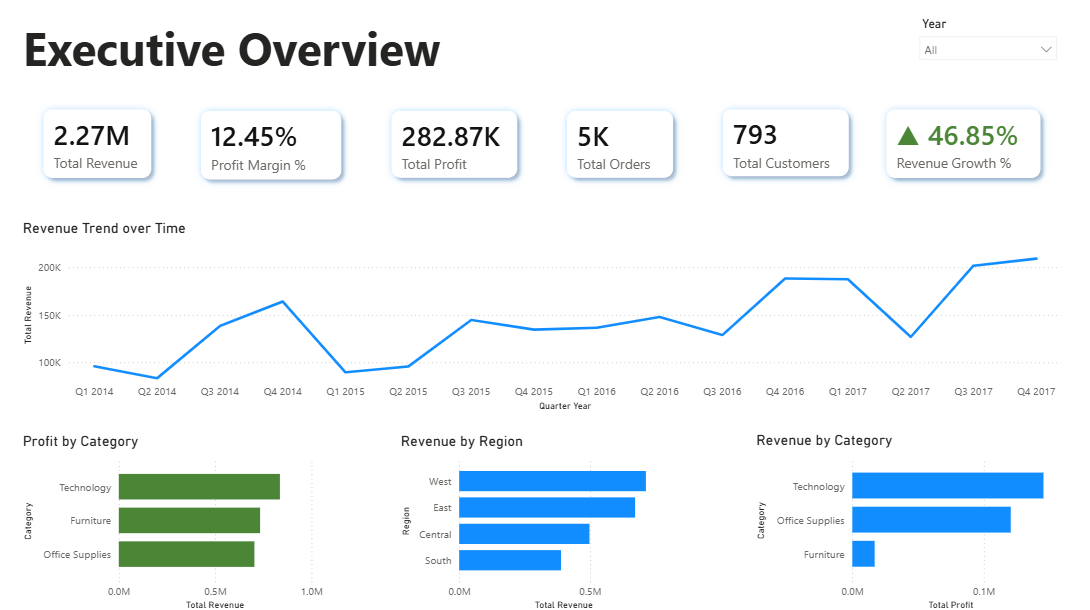

What the dashboard file says about the page in this screenshot:
{"tool":"powerbi","page":{"name":"Executive Overview","canvas":[1280,720],"ordinal":0},"visuals":[{"type":"cardVisual","fields":{"Data":["KPI Measures.Total Revenue"]},"box":[22.8,100,184.2,138.6],"z":0},{"type":"cardVisual","fields":{"Data":["KPI Measures.Total Profit"]},"box":[429.8,101.8,205.3,136.8],"z":1000},{"type":"cardVisual","fields":{"Data":["KPI Measures.Profit Margin %"]},"box":[207,101.8,222.8,138.6],"z":2000},{"type":"cardVisual","fields":{"Data":["KPI Measures.Total Orders"]},"box":[635.1,101.8,182.5,136.8],"z":3000},{"type":"cardVisual","fields":{"Data":["KPI Measures.Total Customers"]},"box":[817.5,100,205.3,136.8],"z":4000},{"type":"cardVisual","fields":{"Data":["KPI Measures.Revenue Growth %"]},"box":[1008.8,100,238.6,138.6],"z":5000},{"type":"lineChart","title":"Revenue Trend over Time","fields":{"Category":["DimDate.Quarter Year"],"Y":["KPI Measures.Total Revenue"]},"box":[22.8,257.9,1224.6,228.1],"z":6000},{"type":"barChart","title":"Revenue by Region","fields":{"Category":["FactSales.Region"],"Y":["KPI Measures.Total Revenue"]},"box":[464.9,507,336.8,212.3],"z":6001},{"type":"barChart","title":"Profit by Category","fields":{"Category":["DimProduct.Category"],"Y":["KPI Measures.Total Revenue"]},"box":[22.8,507,361.4,212.3],"z":6002},{"type":"barChart","title":"Revenue by Category","fields":{"Category":["DimProduct.Category"],"Y":["KPI Measures.Total Profit"]},"box":[880.7,505.3,366.7,214],"z":6003},{"type":"slicer","fields":{"Values":["DimDate.Year"]},"box":[1066.7,15.8,180.7,68.4],"z":6004},{"type":"textbox","box":[23.3,15,678.3,85],"z":6005}]}

Visuals, with their boxes in screenshot pixels (x1, y1, x2, y2), scaled from the page's 1280x720 canvas onto the 1090x610 screenshot:
cardVisual - KPI Measures.Total Revenue: box(19, 85, 176, 202)
cardVisual - KPI Measures.Total Profit: box(366, 86, 541, 202)
cardVisual - KPI Measures.Profit Margin %: box(176, 86, 366, 204)
cardVisual - KPI Measures.Total Orders: box(541, 86, 696, 202)
cardVisual - KPI Measures.Total Customers: box(696, 85, 871, 201)
cardVisual - KPI Measures.Revenue Growth %: box(859, 85, 1062, 202)
"Revenue Trend over Time" lineChart: box(19, 218, 1062, 412)
"Revenue by Region" barChart: box(396, 430, 683, 609)
"Profit by Category" barChart: box(19, 430, 327, 609)
"Revenue by Category" barChart: box(750, 428, 1062, 609)
slicer - DimDate.Year: box(908, 13, 1062, 71)
textbox: box(20, 13, 597, 85)
